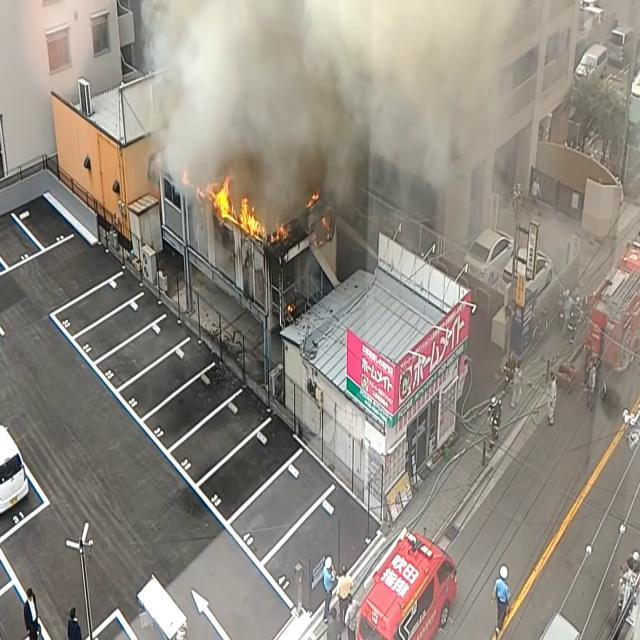Fire: (206, 175, 262, 237)
Smoke: (130, 0, 538, 246)
